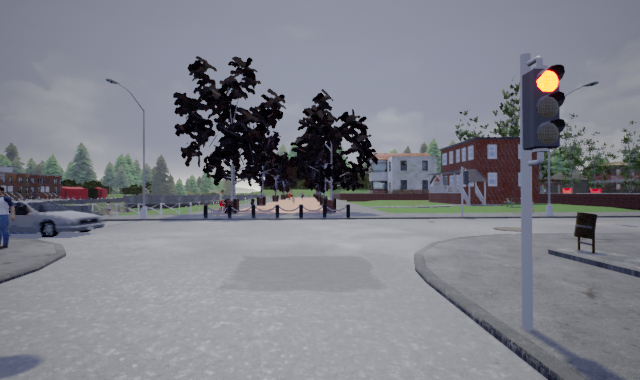pedestrian: (1, 184, 16, 250), (215, 188, 226, 216), (102, 200, 114, 216)
traffic_light: (523, 63, 567, 150)
vehicle: (1, 200, 109, 239)
